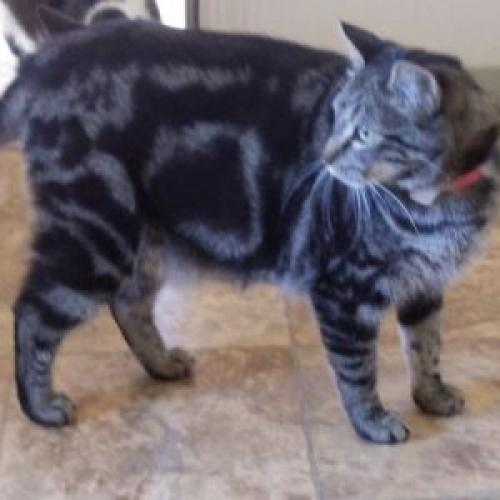cat-face: (317, 21, 466, 205)
